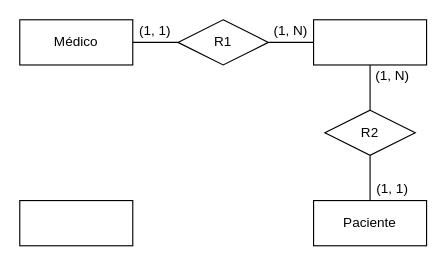
This 446x266 diagram has some shape labels left out. The centre of each missing label's shape, as x and y in pixels:
Consulta: (369,42)
Secretaria: (76,222)
